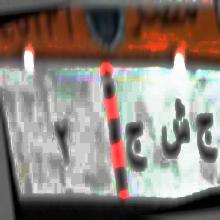2: (52, 115, 74, 174)
jeem: (126, 109, 152, 178), (195, 106, 217, 170)
sheen: (159, 93, 191, 170)
